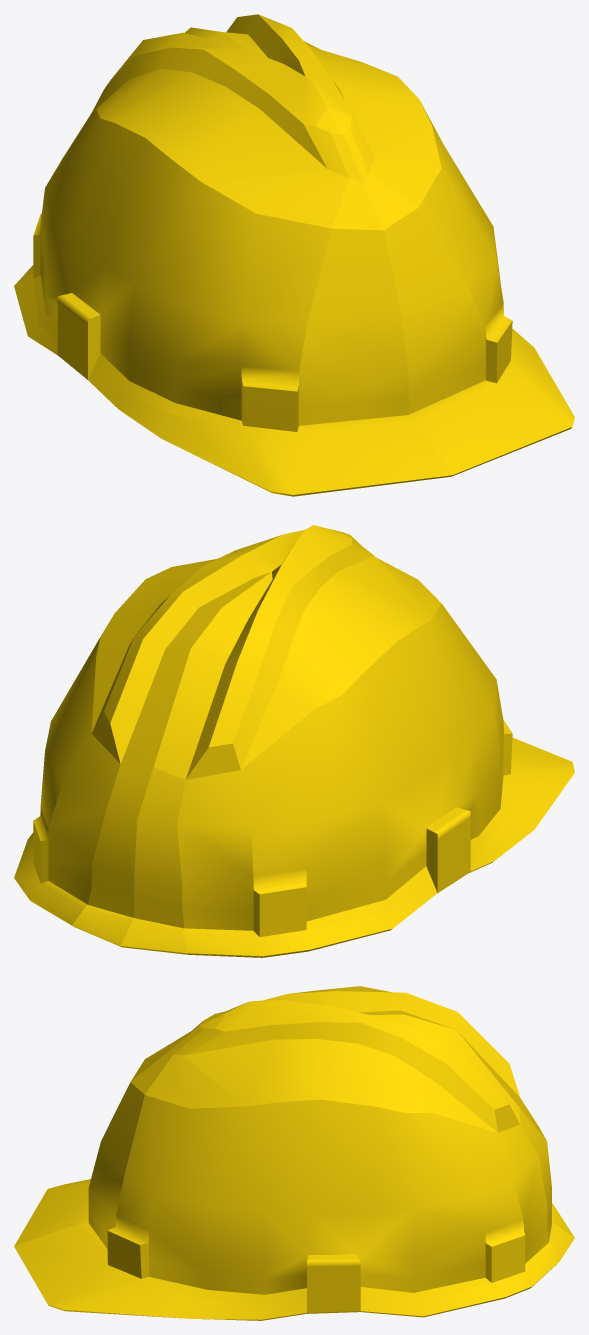
File: hardhat.obj
3 views of the same model, one above another, from view 1: azimuth 30°, elevation 25°; view 2: azimuth 150°, elevation 25°; view 3: azimuth 270°, elevation 25° (orthographic). The views are drawn at different scales.
Size of the model in its own units: 16.38 by 12.2 by 24.62.
1 material, 1 textured.
